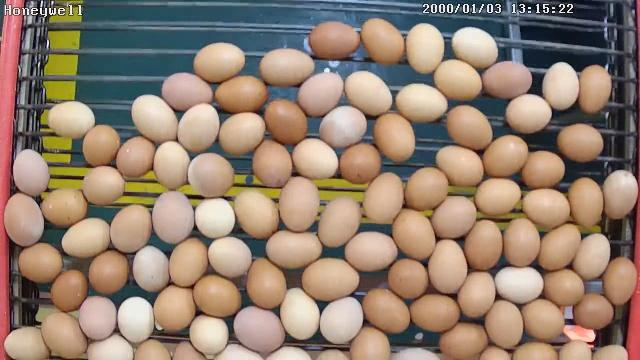egg: (232, 302, 286, 356), (298, 256, 362, 300), (316, 194, 364, 250), (360, 169, 406, 227), (342, 66, 393, 118), (427, 235, 470, 296), (391, 204, 437, 261), (186, 148, 237, 199), (130, 92, 180, 144), (160, 68, 215, 115), (342, 229, 399, 274), (263, 228, 324, 270), (150, 186, 194, 244), (362, 285, 412, 336), (358, 15, 406, 68), (276, 174, 322, 229), (58, 214, 113, 260), (1, 189, 44, 247), (371, 110, 418, 163), (233, 188, 280, 241), (278, 284, 322, 340), (244, 254, 288, 310), (108, 202, 153, 256), (393, 80, 448, 124), (213, 72, 268, 116), (191, 40, 246, 84), (444, 104, 494, 152), (428, 192, 478, 240), (290, 134, 340, 182), (536, 221, 582, 273), (316, 103, 368, 149), (152, 281, 197, 334), (249, 136, 293, 190), (259, 46, 314, 89), (450, 24, 499, 72), (402, 165, 451, 213), (41, 308, 88, 358), (216, 111, 266, 158), (191, 272, 242, 318), (434, 143, 486, 188), (295, 71, 344, 118), (318, 294, 364, 344), (483, 298, 527, 350), (493, 262, 545, 306), (471, 174, 523, 218), (176, 101, 220, 153), (168, 234, 210, 288), (151, 138, 193, 192), (482, 133, 530, 180), (518, 296, 566, 343), (403, 20, 444, 75), (462, 217, 503, 272), (264, 97, 310, 146), (432, 57, 482, 102), (86, 246, 131, 296), (456, 265, 496, 321), (481, 57, 533, 100), (308, 19, 360, 62), (522, 185, 572, 229), (501, 215, 541, 270), (10, 145, 50, 200), (409, 290, 461, 332), (567, 173, 605, 230), (190, 193, 237, 239), (504, 91, 553, 135), (44, 99, 96, 140), (540, 59, 580, 112), (436, 320, 489, 360), (207, 234, 253, 280), (556, 120, 604, 164), (16, 240, 64, 284), (116, 294, 158, 344), (128, 244, 170, 294), (38, 185, 88, 227), (571, 231, 612, 282), (386, 255, 430, 302), (115, 131, 156, 181), (79, 164, 126, 207), (338, 140, 382, 185), (576, 62, 613, 115), (602, 168, 638, 222), (542, 265, 586, 309), (520, 148, 566, 190), (78, 294, 118, 342), (602, 254, 638, 307), (188, 310, 231, 354), (81, 122, 122, 168), (2, 322, 52, 359), (47, 268, 89, 312), (570, 291, 615, 330)
